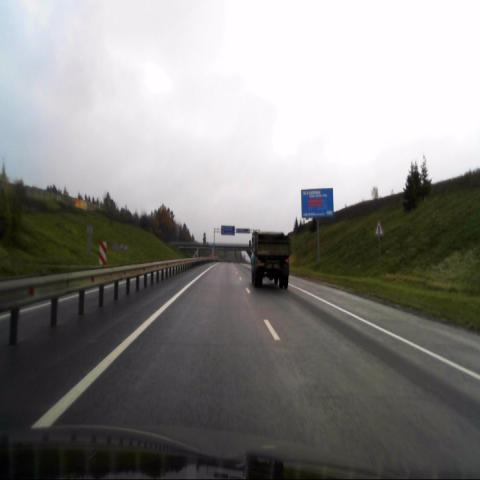2_3_2: (374, 219, 384, 237)
